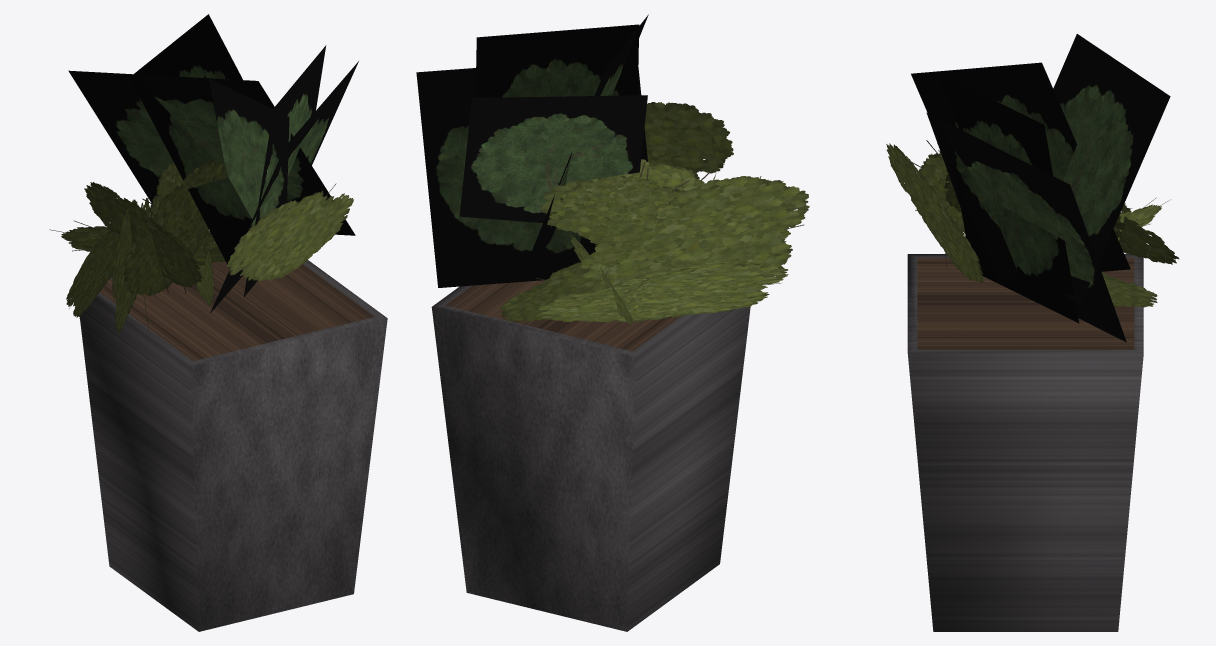
File: SM_Morin_FiorieraC_LOD2.fbx
3 renders of one model, left to right at view 1: azimuth 30°, elevation 25°; view 2: azimuth 150°, elevation 25°; view 3: azimuth 270°, elevation 25°, orthographic. The views are drawn at different scales.
Parts seen in each view (by area): view 1: SM_Morin_FiorieraC_LOD2; view 2: SM_Morin_FiorieraC_LOD2; view 3: SM_Morin_FiorieraC_LOD2.
Part boxes in pixels (x1,y1,x2,y2): SM_Morin_FiorieraC_LOD2: [49, 14, 387, 631]; SM_Morin_FiorieraC_LOD2: [416, 14, 809, 631]; SM_Morin_FiorieraC_LOD2: [886, 34, 1179, 631].
Size of the model in its own units: 130 by 105 by 180.
3 materials, 3 textured.
